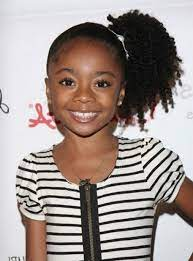person: (44, 23, 129, 139)
